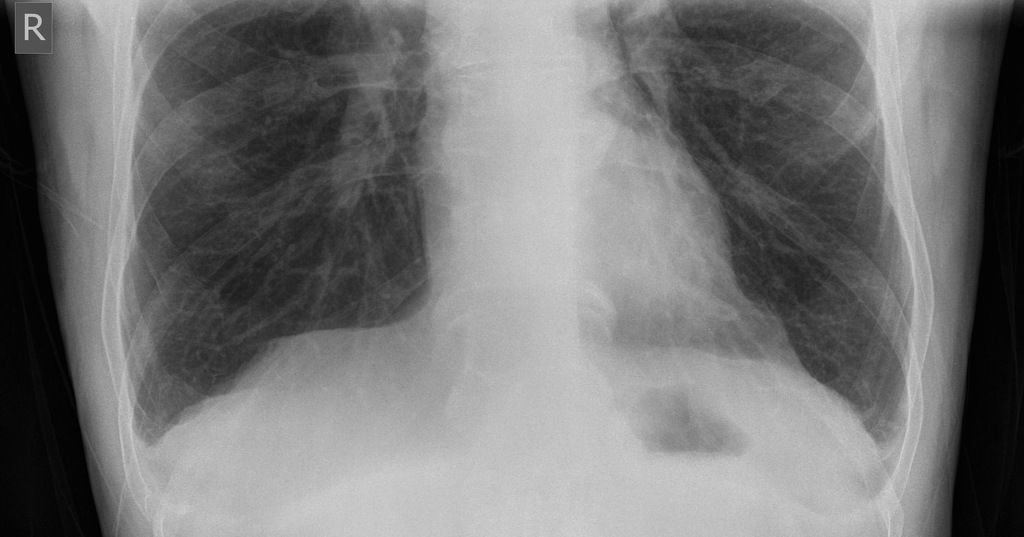cancer: (610, 27, 883, 458), (118, 16, 420, 402)
